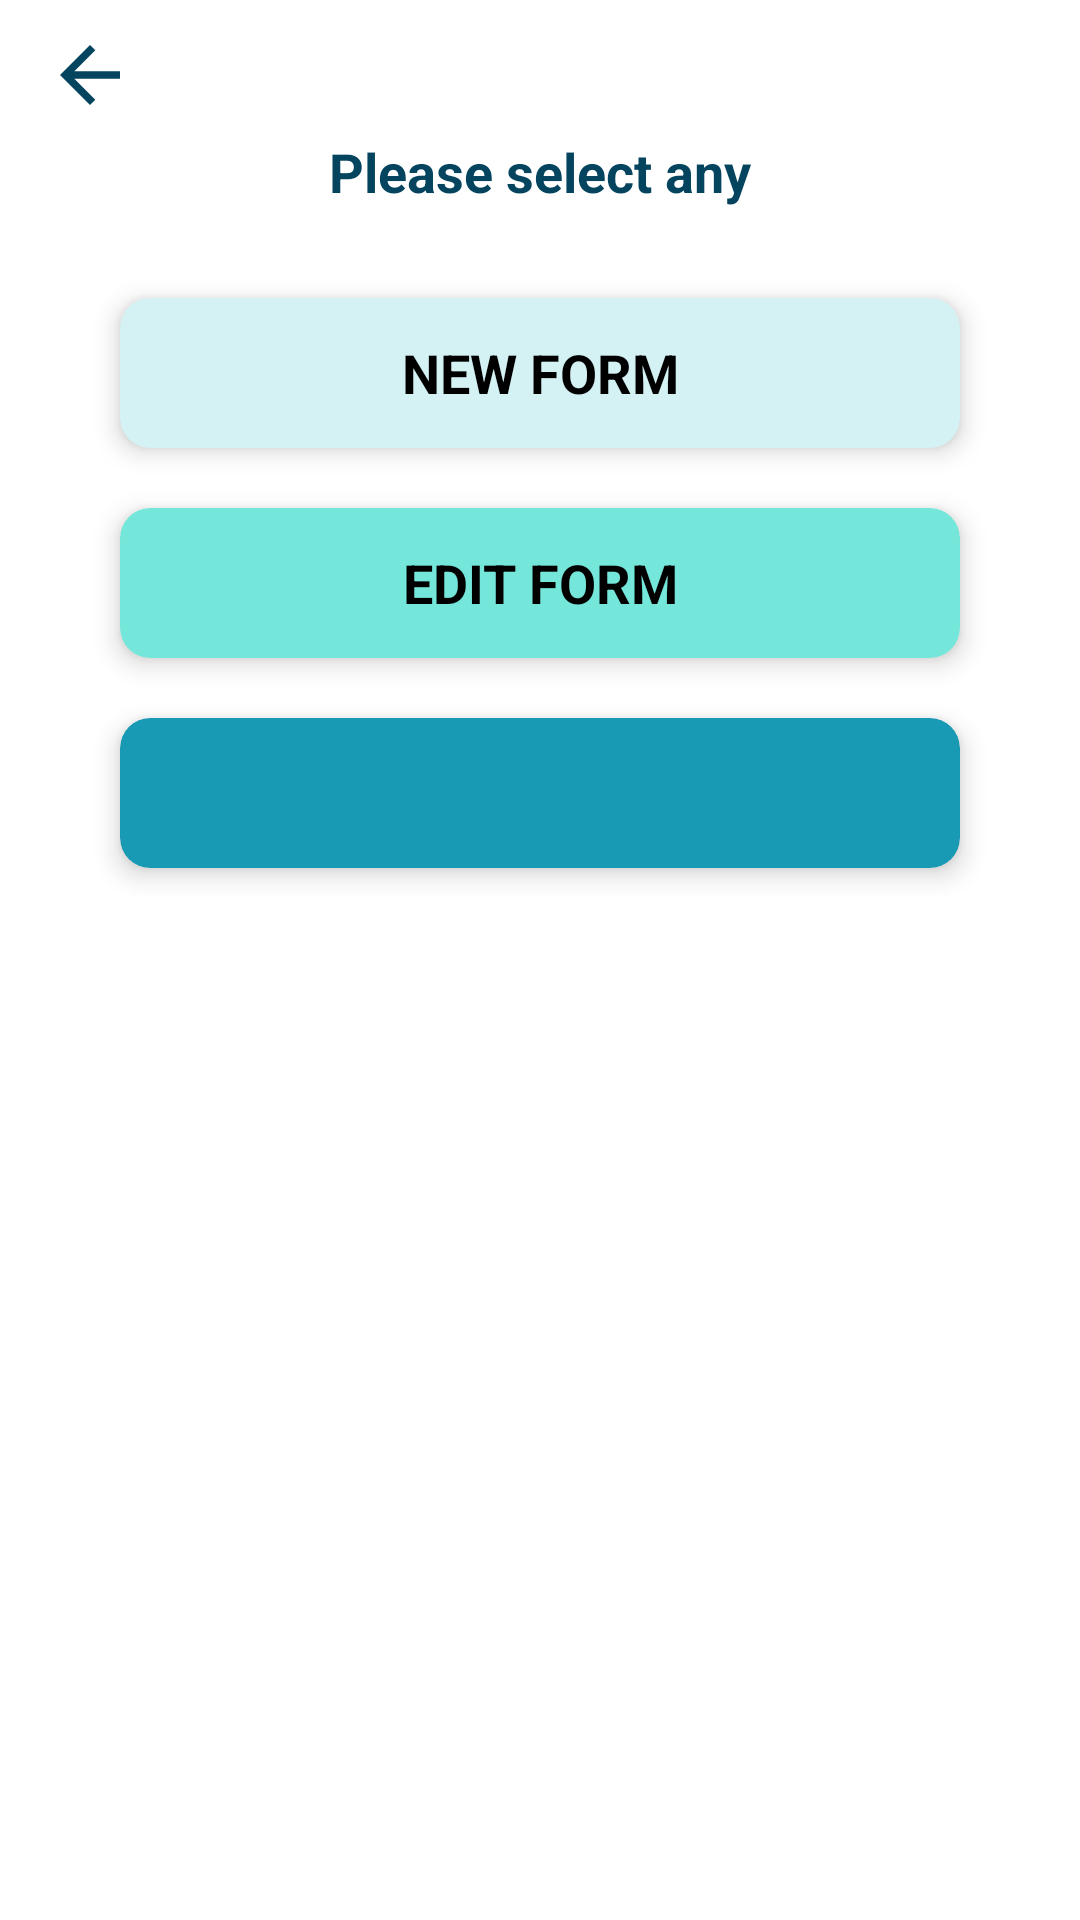

Screen size 1080px x 1920px. Icon name, then its box in pixels as (x1, y1, x2, y2):
back: (60, 45, 120, 105)
